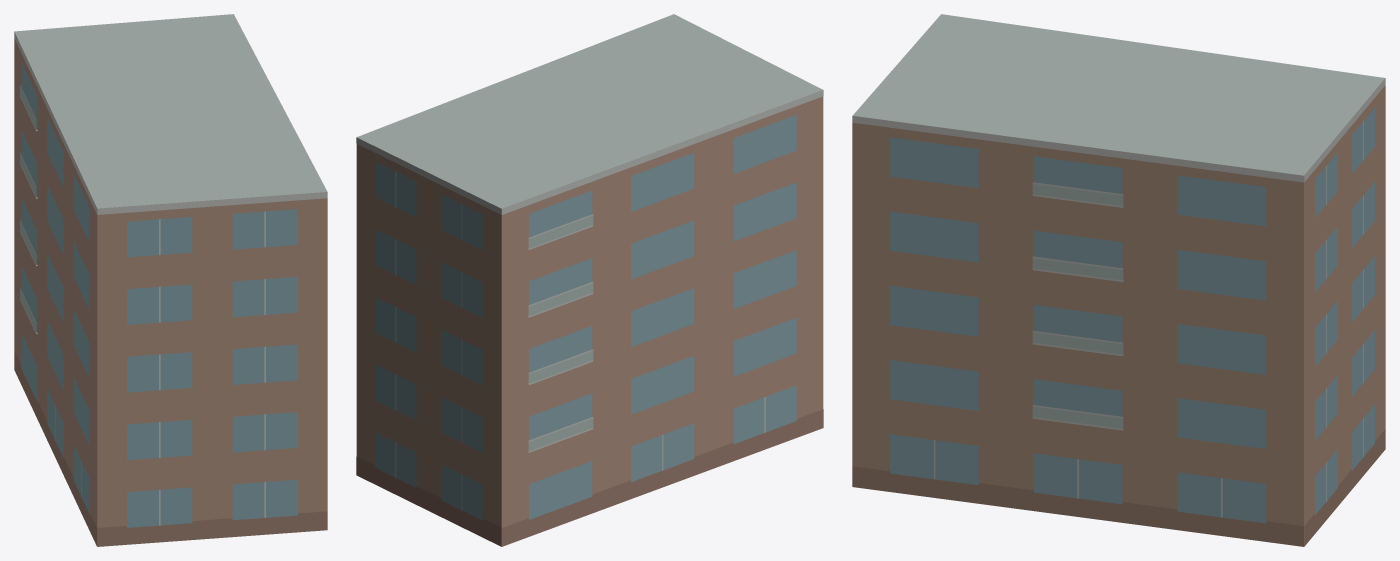
The model's file is survey-upis-32779577.glb.
3 views of the same model, side by side, from view 1: azimuth 30°, elevation 25°; view 2: azimuth 150°, elevation 25°; view 3: azimuth 270°, elevation 25° (orthographic). The views are drawn at different scales.
Visible parts, largest first — view 1: survey-upis-32779577.tmp; view 2: survey-upis-32779577.tmp; view 3: survey-upis-32779577.tmp.
Part boxes in pixels (left/top/right/bottom): survey-upis-32779577.tmp: left=14, top=14, right=327, bottom=546; survey-upis-32779577.tmp: left=356, top=14, right=823, bottom=546; survey-upis-32779577.tmp: left=852, top=14, right=1385, bottom=546.
Size of the model in its own units: 12.25 by 13.1 by 17.06.
